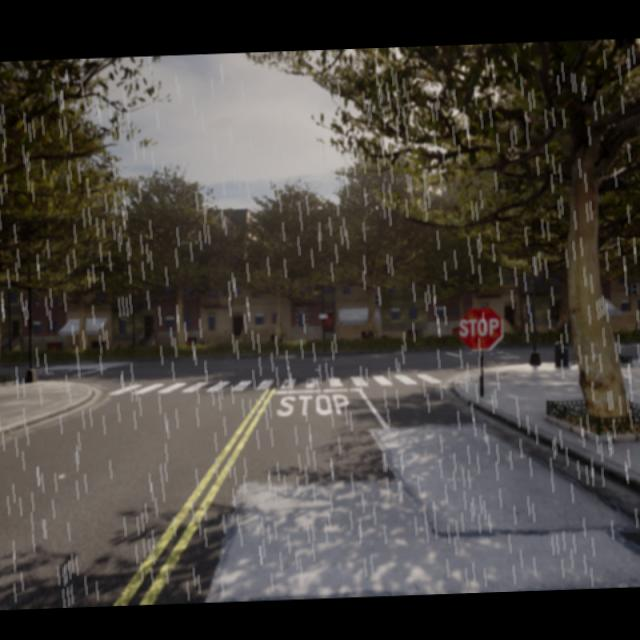stop sign: (455, 302, 505, 353)
